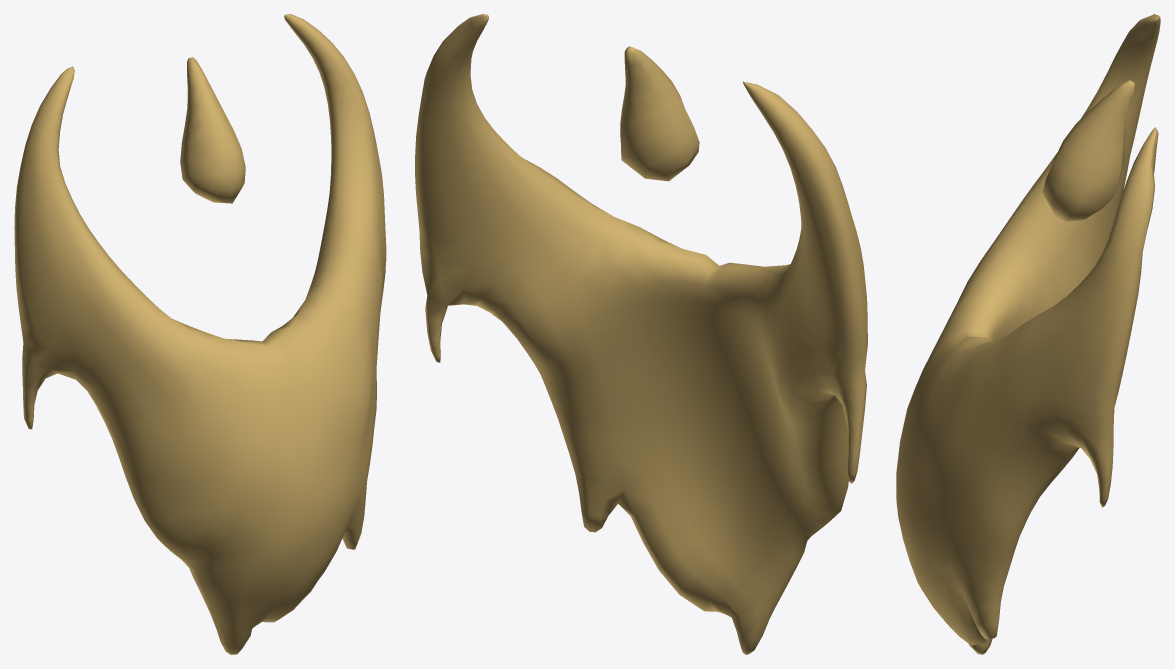
The model's file is liquidmask_low.fbx.
3 views of the same model, side by side, from view 1: azimuth 30°, elevation 25°; view 2: azimuth 150°, elevation 25°; view 3: azimuth 270°, elevation 25° (orthographic). The views are drawn at different scales.
Visible parts, largest first — view 1: liquidmask_low; view 2: liquidmask_low; view 3: liquidmask_low.
Boxes of the visible parts, <box> form: liquidmask_low: <box>14,14,386,654</box>; liquidmask_low: <box>415,14,867,654</box>; liquidmask_low: <box>896,14,1160,654</box>.
Bounding box in the file's own units: 34.21 × 49.71 × 19.95.
